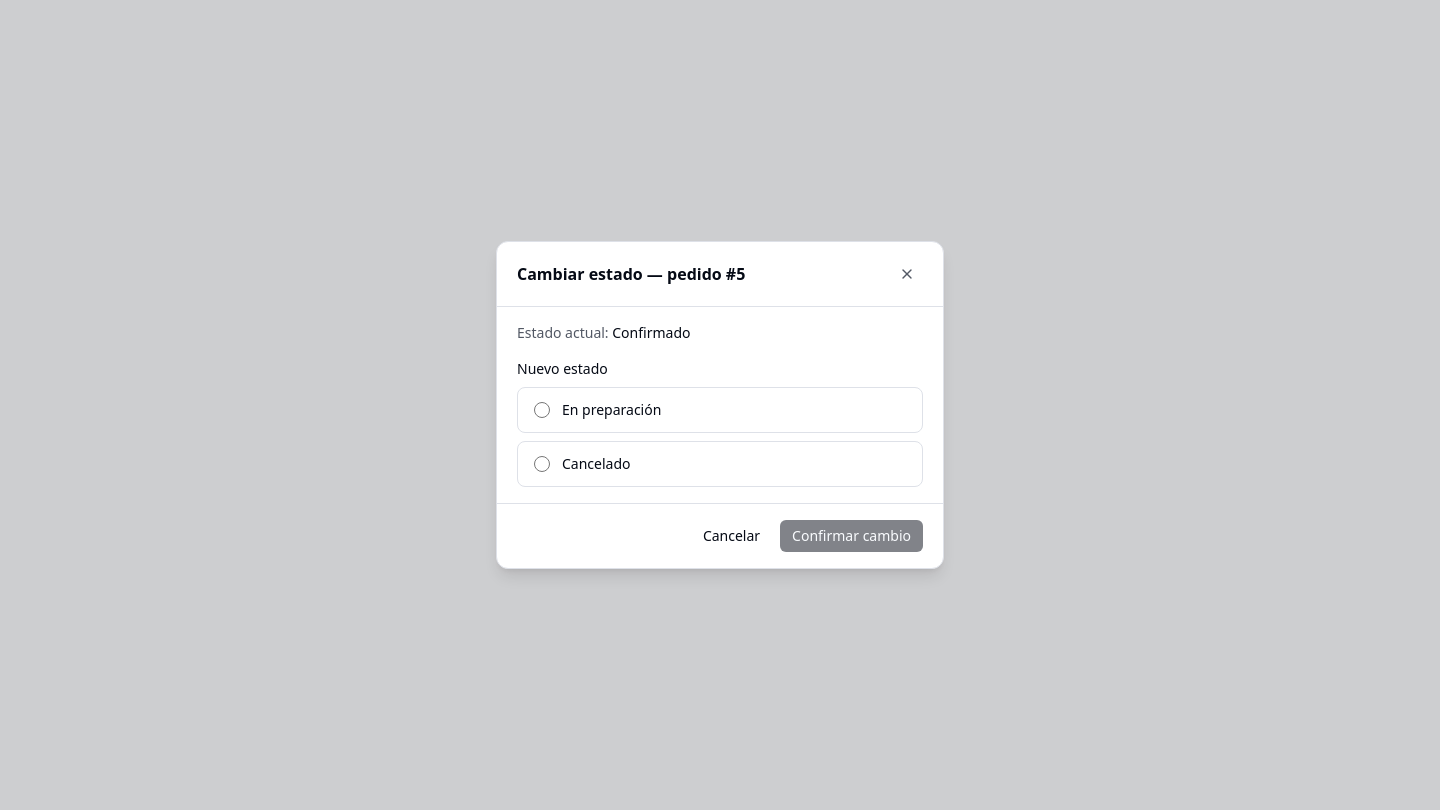
it: StateTransitionModal › confirm button becomes enabled after selecting a radio
The width and height of the screenshot is (1440, 810).
Click the radio button labelled "En preparación" at (542,410), box [534, 402, 550, 418]
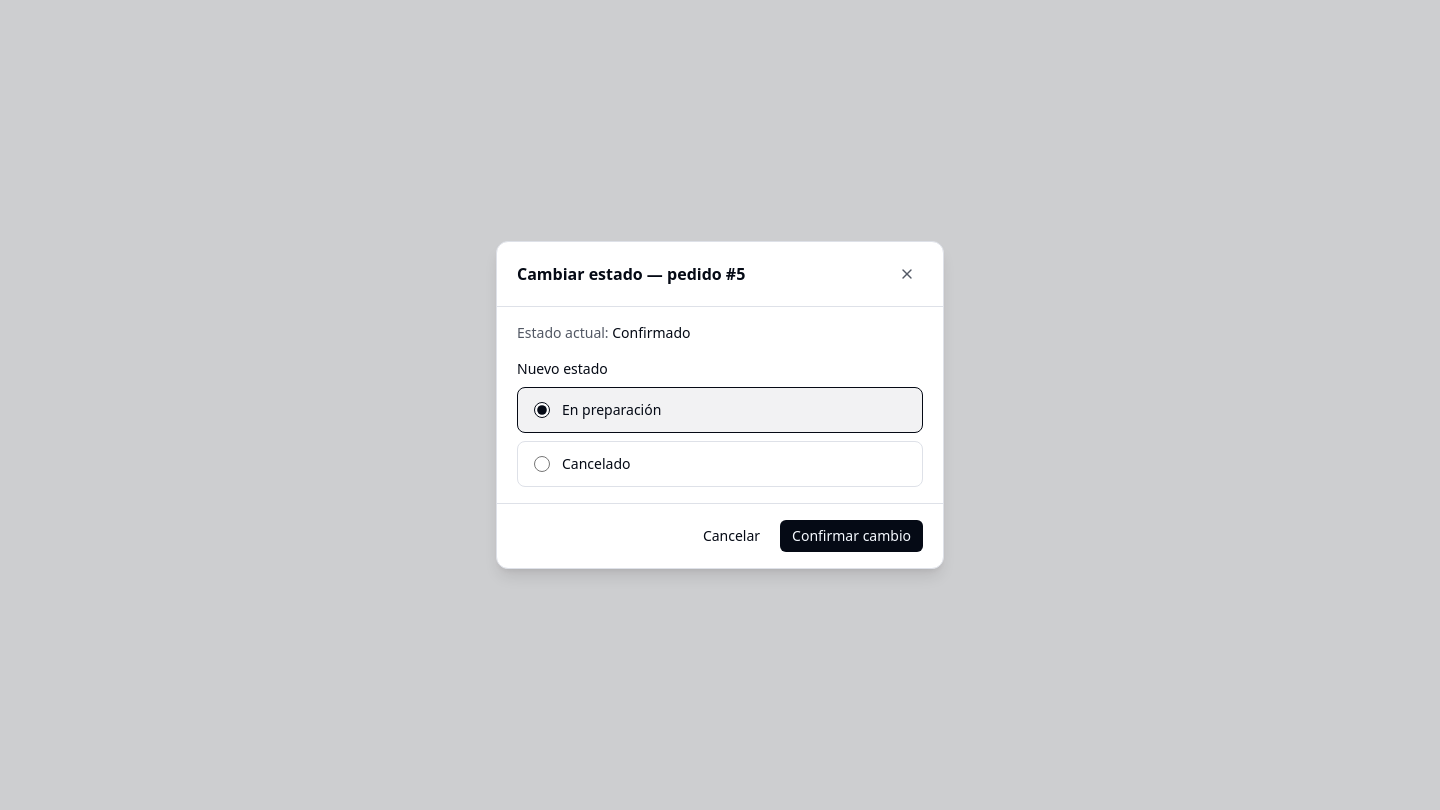
Now the button "Confirmar cambio" is enabled, box [780, 520, 923, 552]
